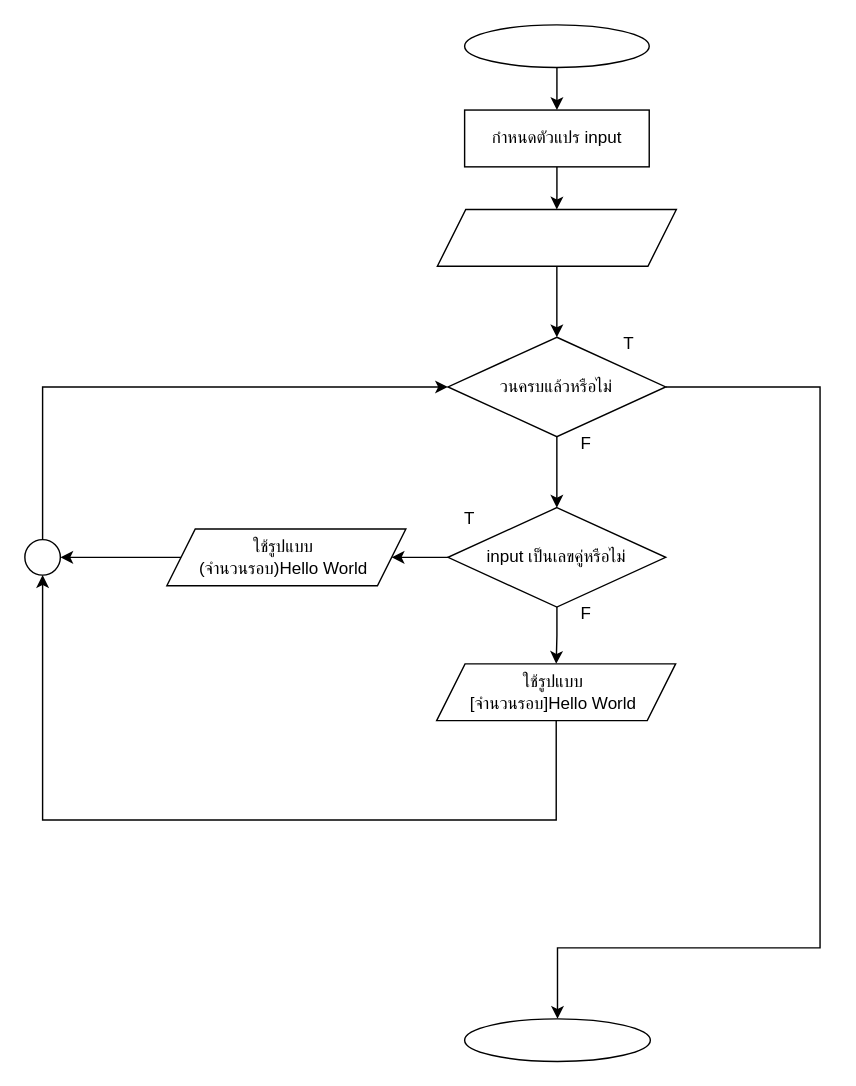
The diagram is 856 pixels wide and 1086 high, and some of its shapes have lost their labels. The centre of each missing label's shape, as x and y in pixels:
End: the point at 556,1039
Start: the point at 556,45
รับค่า input: the point at 556,237
